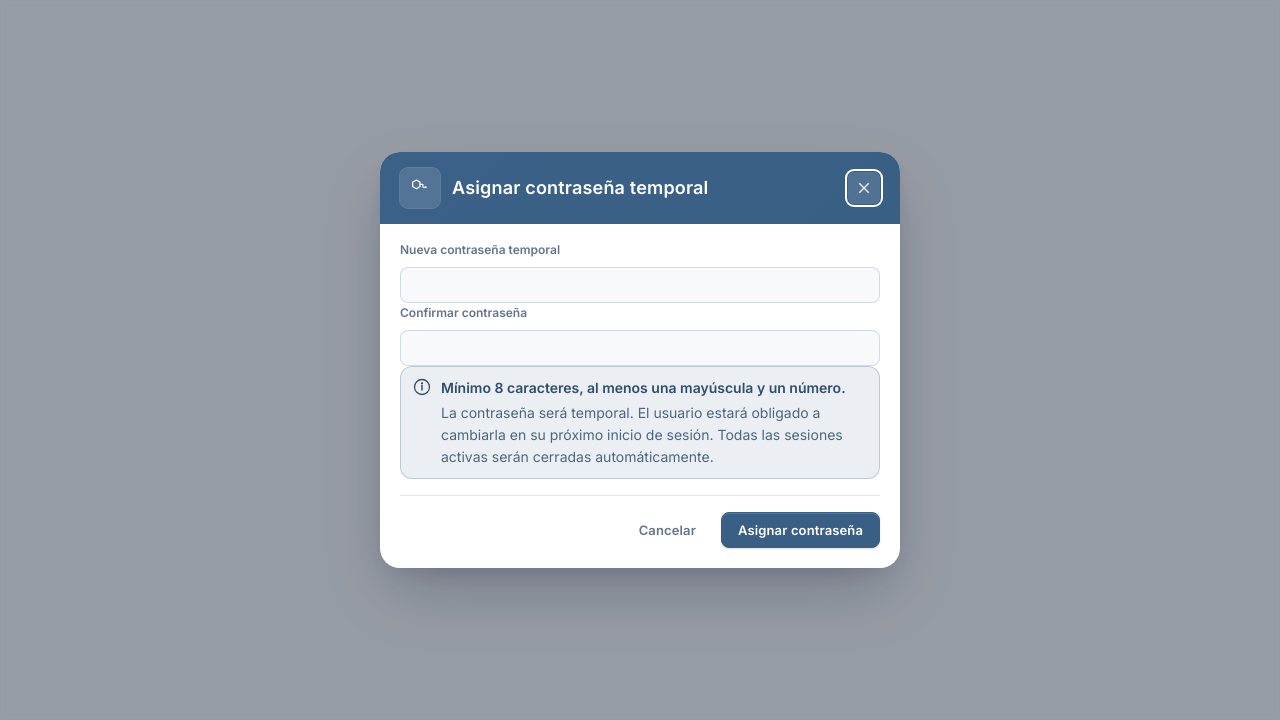
Test case: AssignTemporaryPasswordModal — envío › loading: deshabilita campos y botón mientras la petición está en curso
Type "Temp0ral!" into the password field labelled "Nueva contraseña temporal" at (640, 285), box [400,267,880,303]
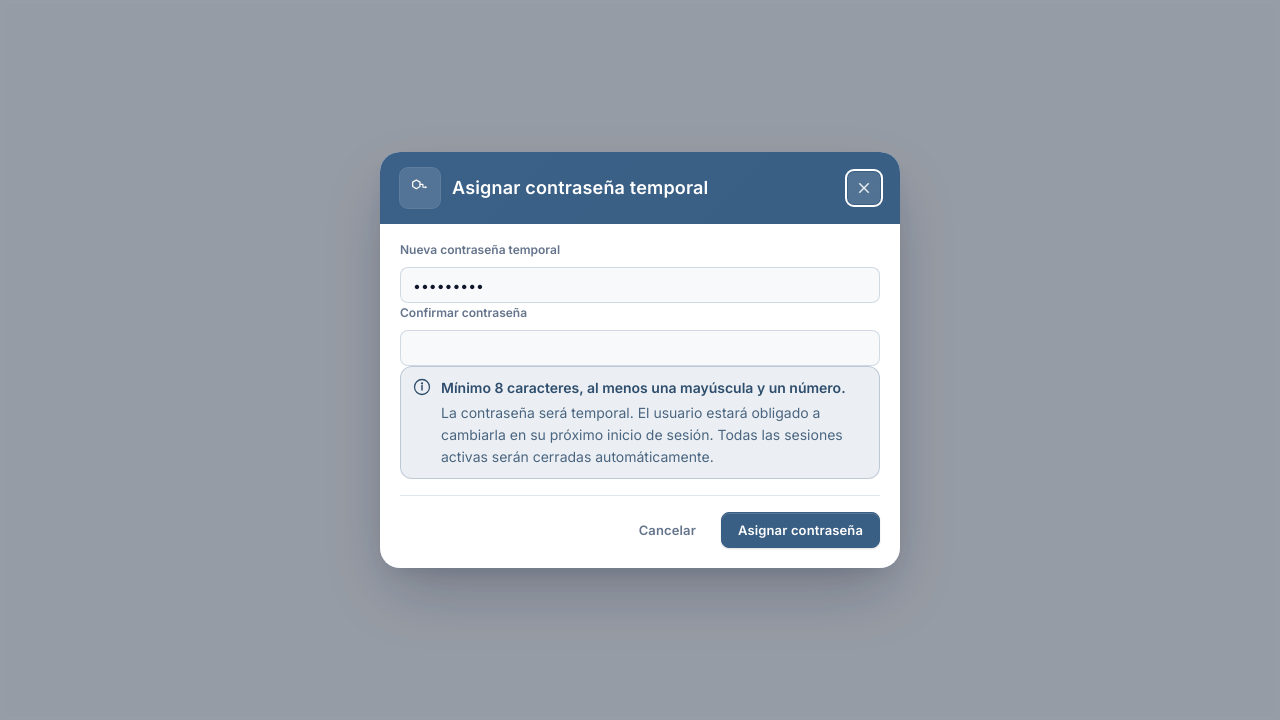
Type "Temp0ral!" into the password field labelled "Confirmar contraseña" at (640, 348), box [400,330,880,366]
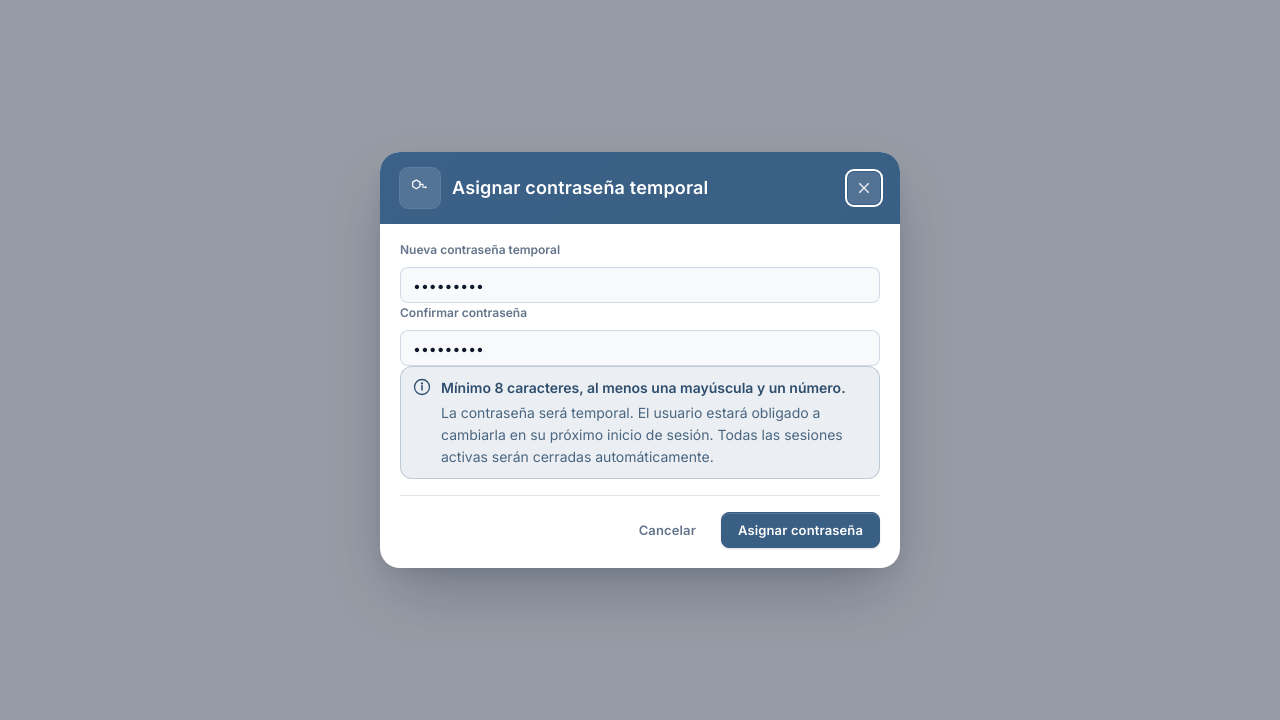
Click the button "Asignar contraseña" at (800, 530), box [721,512,880,548]
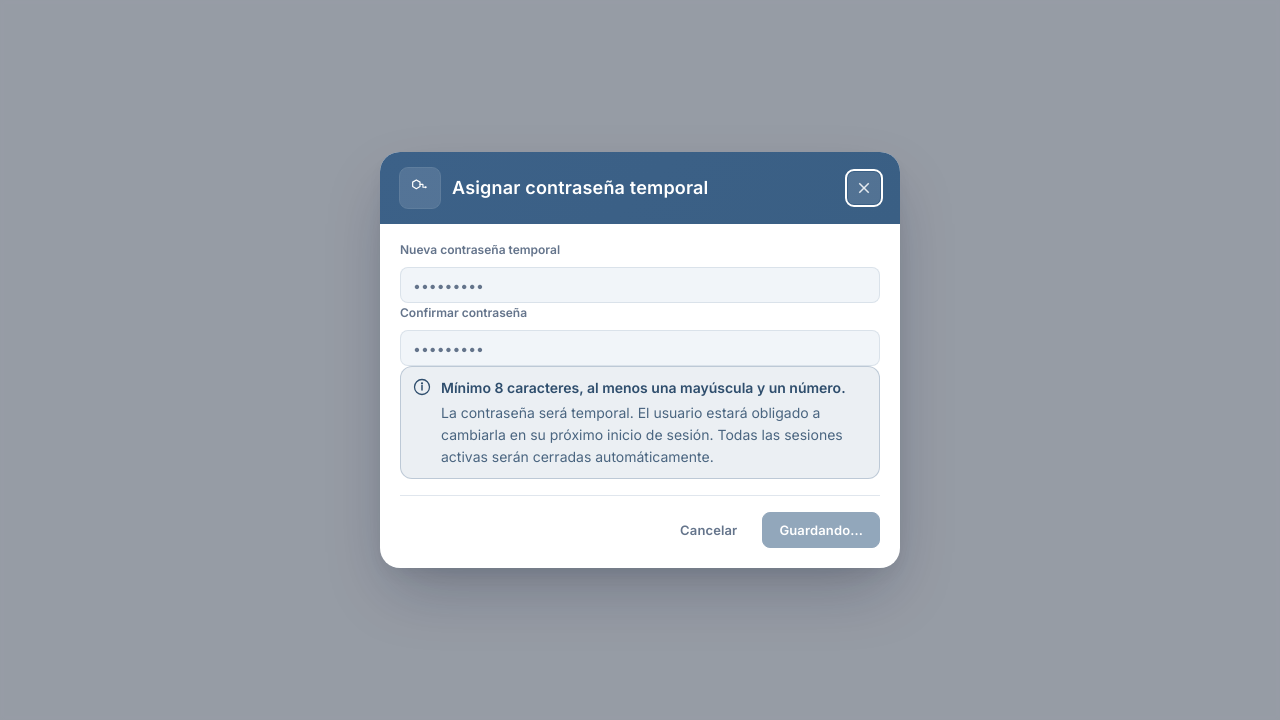
Check: the button "Guardando..." is disabled, box [762,512,880,548]
